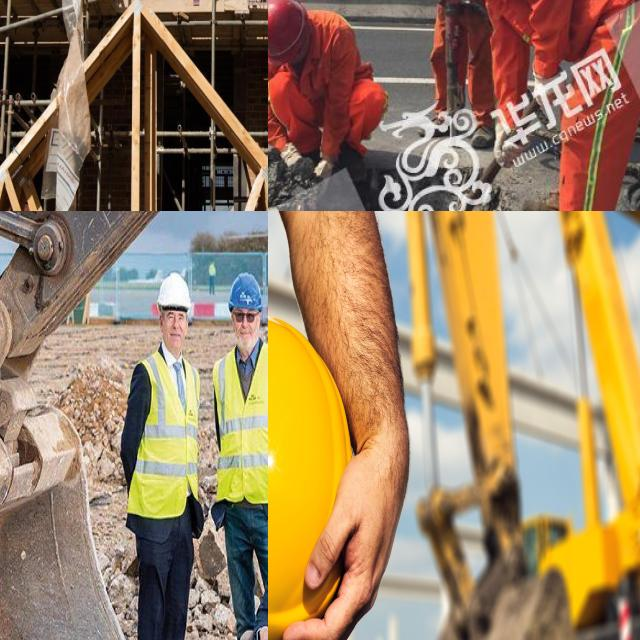face_nomask: (230, 307, 258, 353), (160, 308, 184, 358)
glasses: (230, 306, 260, 327)
hand_noglove: (282, 403, 416, 640)
head_helmet: (268, 300, 356, 640), (268, 0, 314, 48), (228, 270, 262, 314), (156, 271, 190, 313)
person: (426, 0, 640, 211), (124, 272, 206, 640), (213, 274, 268, 622), (268, 0, 377, 172), (411, 0, 515, 97), (206, 259, 216, 298)
vest: (128, 348, 200, 512), (214, 346, 268, 503), (487, 0, 633, 27)
